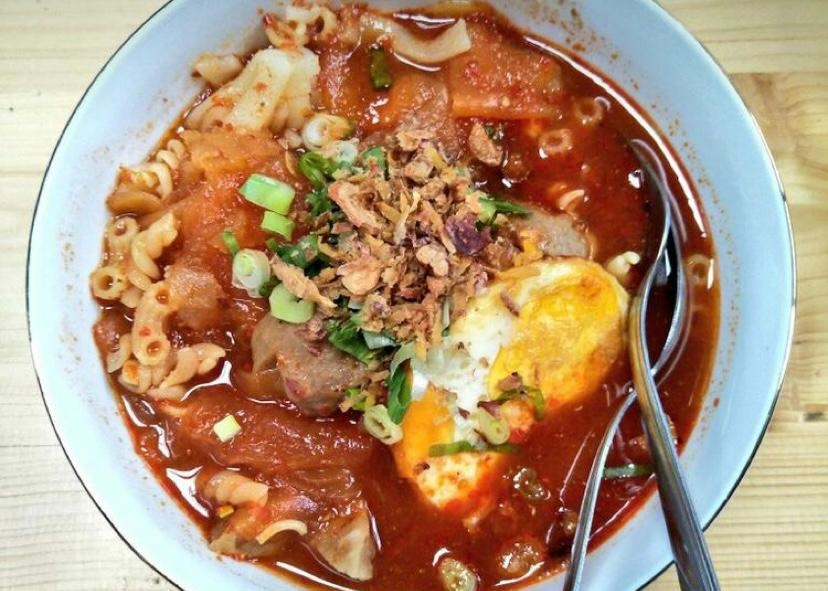seblak: (93, 14, 634, 586)
